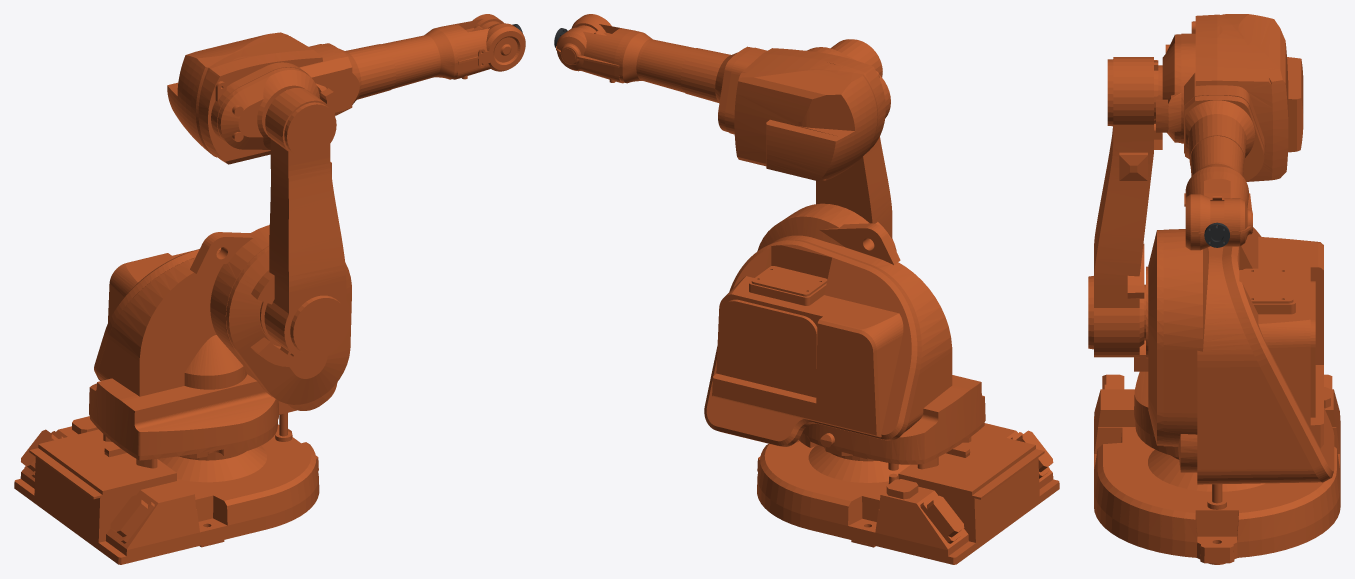
Rendered from abb_irb52_7_120.dae.
3 views of the same model, side by side, from view 1: azimuth 30°, elevation 25°; view 2: azimuth 150°, elevation 25°; view 3: azimuth 270°, elevation 25° (orthographic). The views are drawn at different scales.
Visible parts, largest first — view 1: link_1, base_link, link_2, link_3, link_4; view 2: link_1, base_link, link_3, link_4, link_2; view 3: link_1, base_link, link_3, link_2, link_4, link_6, link_5.
Boxes of the visible parts, x1,y1,x2,y2 form: link_1: [89, 225, 351, 468]; base_link: [14, 413, 319, 564]; link_2: [251, 88, 350, 360]; link_3: [167, 32, 396, 164]; link_4: [381, 14, 525, 88]; link_1: [704, 203, 985, 470]; base_link: [757, 423, 1059, 564]; link_3: [680, 46, 890, 181]; link_4: [556, 14, 695, 92]; link_2: [816, 39, 896, 251]; link_1: [1134, 227, 1334, 484]; base_link: [1094, 374, 1340, 564]; link_3: [1156, 14, 1303, 181]; link_2: [1088, 57, 1162, 357]; link_4: [1184, 136, 1252, 250]; link_6: [1204, 222, 1229, 247]; link_5: [1210, 200, 1224, 225].
Size of the model in its own units: 1.2 by 0.4943 by 1.07.
